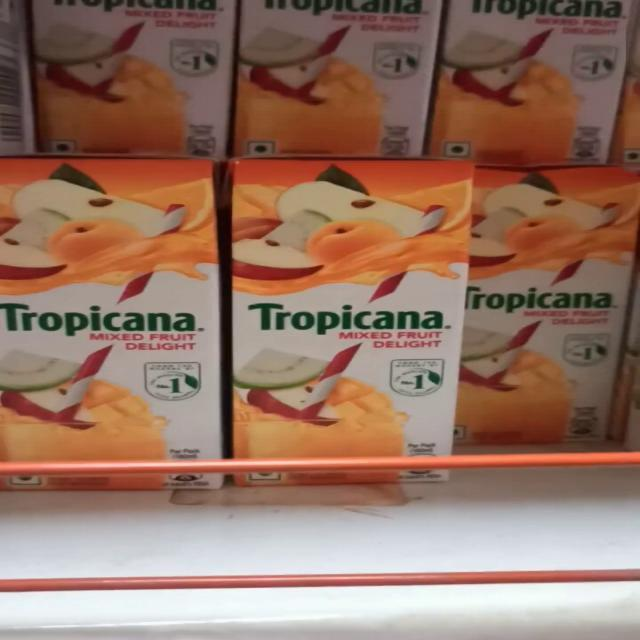Tropicana: (226, 154, 467, 480), (0, 150, 230, 486)
